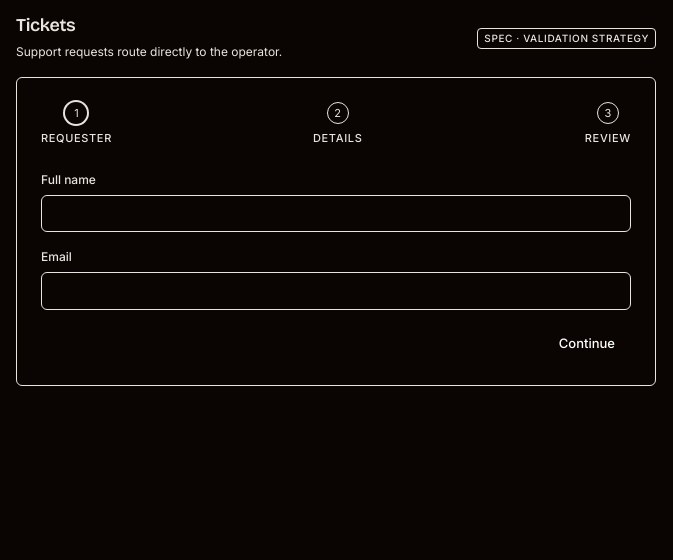
Test: TicketsModule › supports going back without losing data
The width and height of the screenshot is (673, 560).
Type "Jane Recruiter" into the field labelled "Full name" at (336, 213), box top-left (41, 194), bottom-right (631, 232)
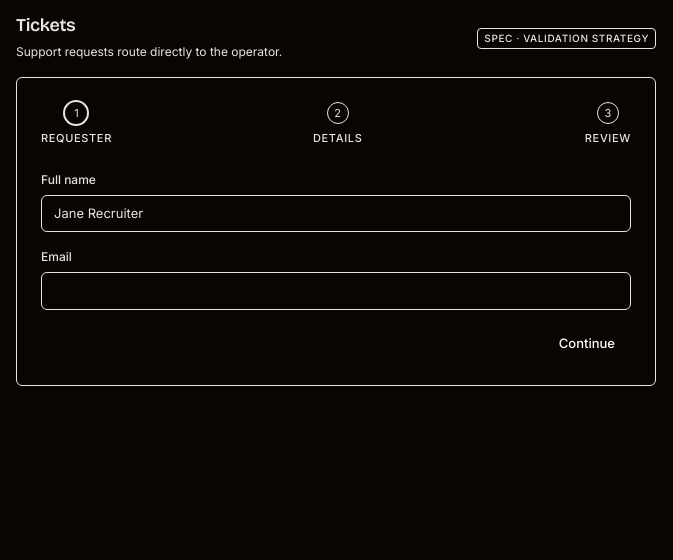
Type "jane@corp.com" into the field labelled "Email" at (336, 291), box top-left (41, 272), bottom-right (631, 310)
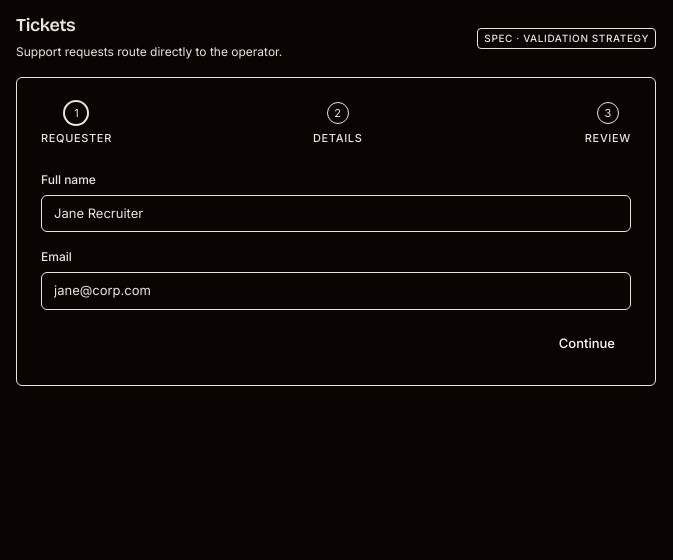
Click the button "Continue" at (587, 343), box top-left (543, 326), bottom-right (631, 361)
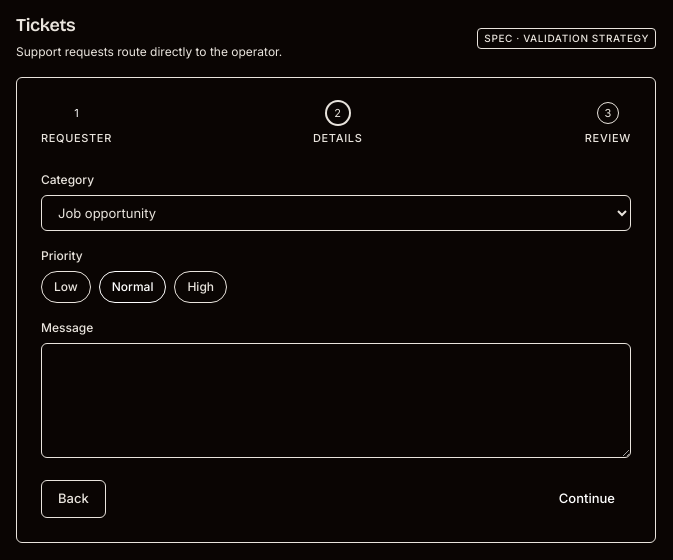
Click the button "Back" at (73, 499), box top-left (41, 480), bottom-right (106, 518)
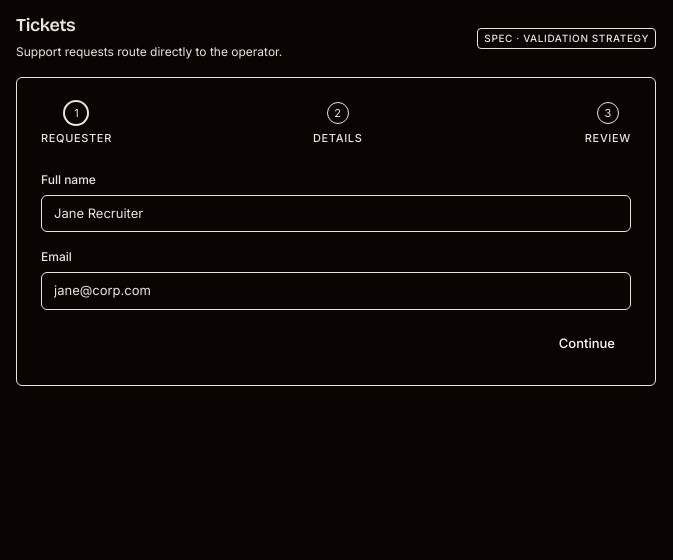
Check: the field labelled "Full name" holds "Jane Recruiter", box top-left (41, 194), bottom-right (631, 232)
